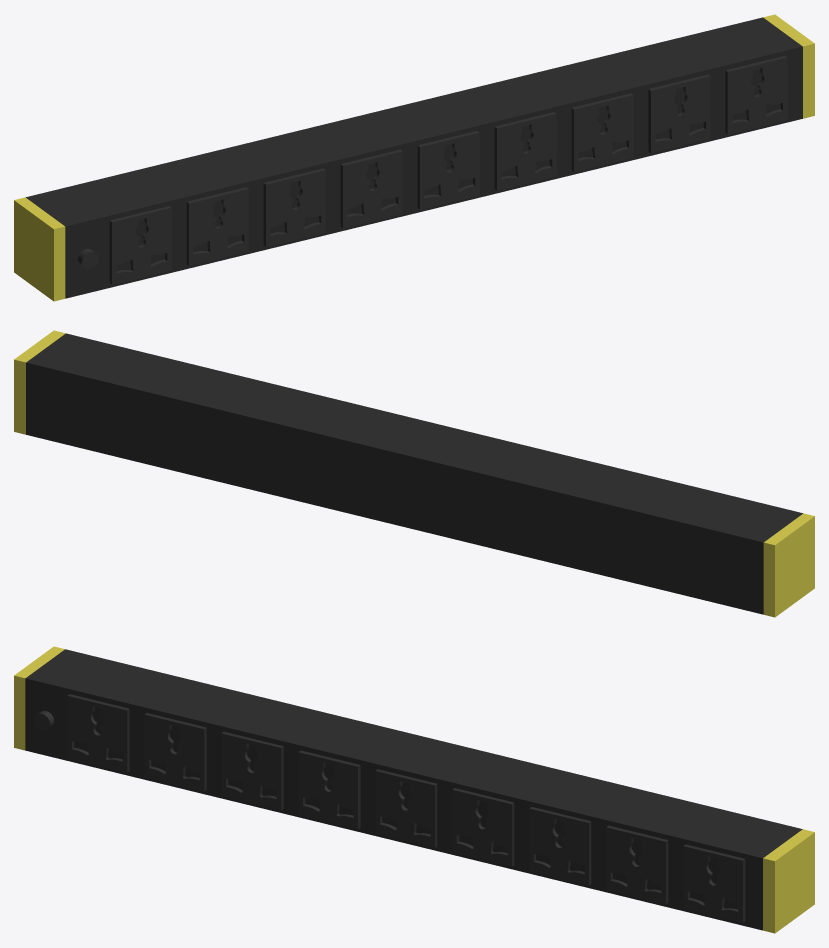
File: PDU.fbx
3 renders of one model, top to bottom at view 1: azimuth 30°, elevation 25°; view 2: azimuth 150°, elevation 25°; view 3: azimuth 330°, elevation 25°, orthographic.
Parts seen in each view (by area): view 1: polySurface3, polySurface1, pCube16, pCube8, pCube15, pCube11, pCube10, pCube14, pCube13, pCube12, pCube9; view 2: polySurface3, polySurface1; view 3: polySurface3, polySurface1, pCube10, pCube11, pCube8, pCube13, pCube9, pCube12, pCube15, pCube16, pCube14.
Boxes of the visible parts, x1,y1,x2,y2 form: polySurface3: (26,17,802,298); polySurface1: (14,14,814,301); pCube16: (725,56,787,134); pCube8: (109,206,171,284); pCube15: (648,74,710,153); pCube11: (340,149,402,228); pCube10: (263,168,325,246); pCube14: (571,93,633,171); pCube13: (494,112,556,190); pCube12: (417,131,479,209); pCube9: (186,187,248,265); polySurface3: (26,333,802,614); polySurface1: (14,330,814,617); polySurface3: (25,649,802,930); polySurface1: (14,646,814,933); pCube10: (221,731,283,810); pCube11: (298,750,360,828); pCube8: (67,694,129,772); pCube13: (452,788,514,866); pCube9: (144,713,206,791); pCube12: (375,769,437,847); pCube15: (606,825,668,904); pCube16: (683,844,745,922); pCube14: (529,807,591,885).
Size of the model in its own units: 48.5 by 4.4 by 4.85.
